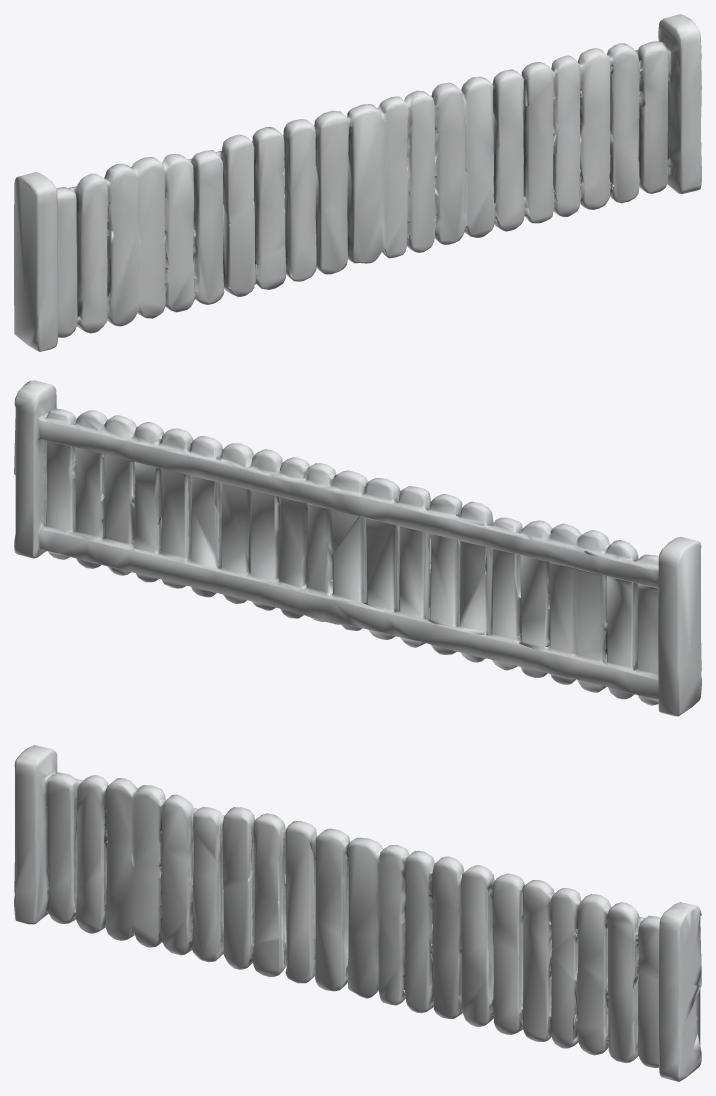
Rendered from Fence.glb.
3 renders of one model, top to bottom at view 1: azimuth 30°, elevation 25°; view 2: azimuth 150°, elevation 25°; view 3: azimuth 330°, elevation 25°, orthographic.
Bounding box in the file's own units: 2 × 0.4827 × 0.1285.
Materials: 1 (1 with a texture image).
